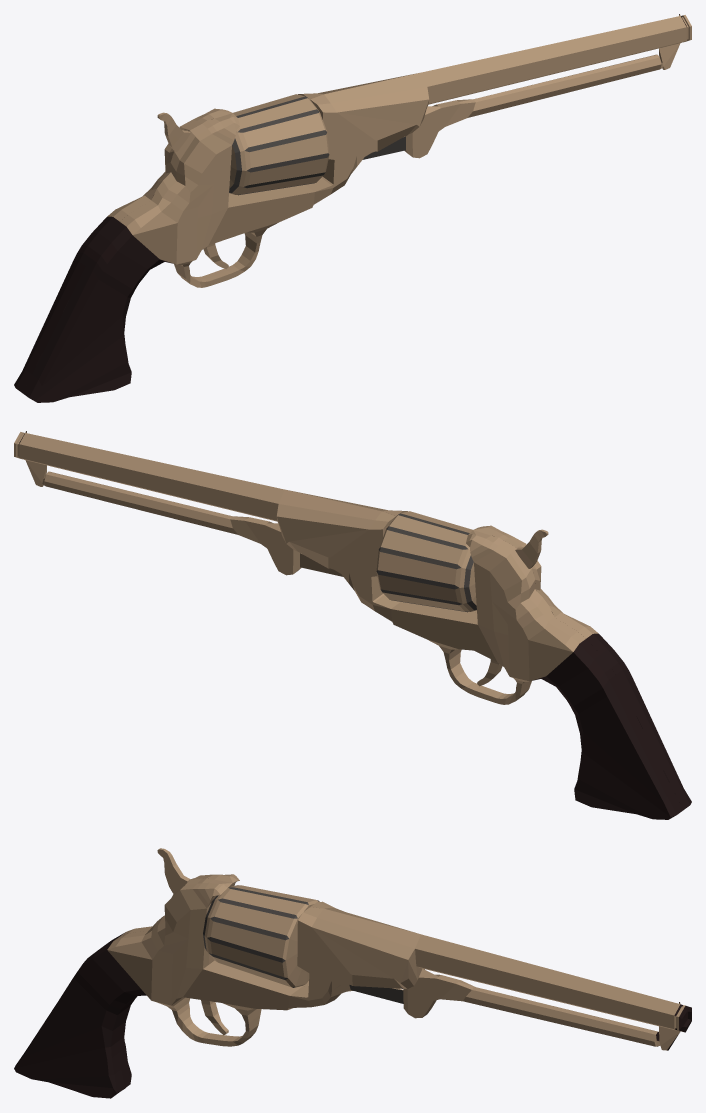
The model's file is weapon_revolver.glb.
3 views of the same model, one above another, from view 1: azimuth 30°, elevation 25°; view 2: azimuth 150°, elevation 25°; view 3: azimuth 330°, elevation 25° (orthographic).
Visible parts, largest first — view 1: weapon_revolver; view 2: weapon_revolver; view 3: weapon_revolver.
Boxes of the visible parts, box(x1,y1,x2,y2) form: weapon_revolver: box(14, 14, 691, 402); weapon_revolver: box(14, 431, 691, 819); weapon_revolver: box(14, 848, 691, 1098).
Size of the model in its own units: 0.34 by 0.1243 by 0.0403.
